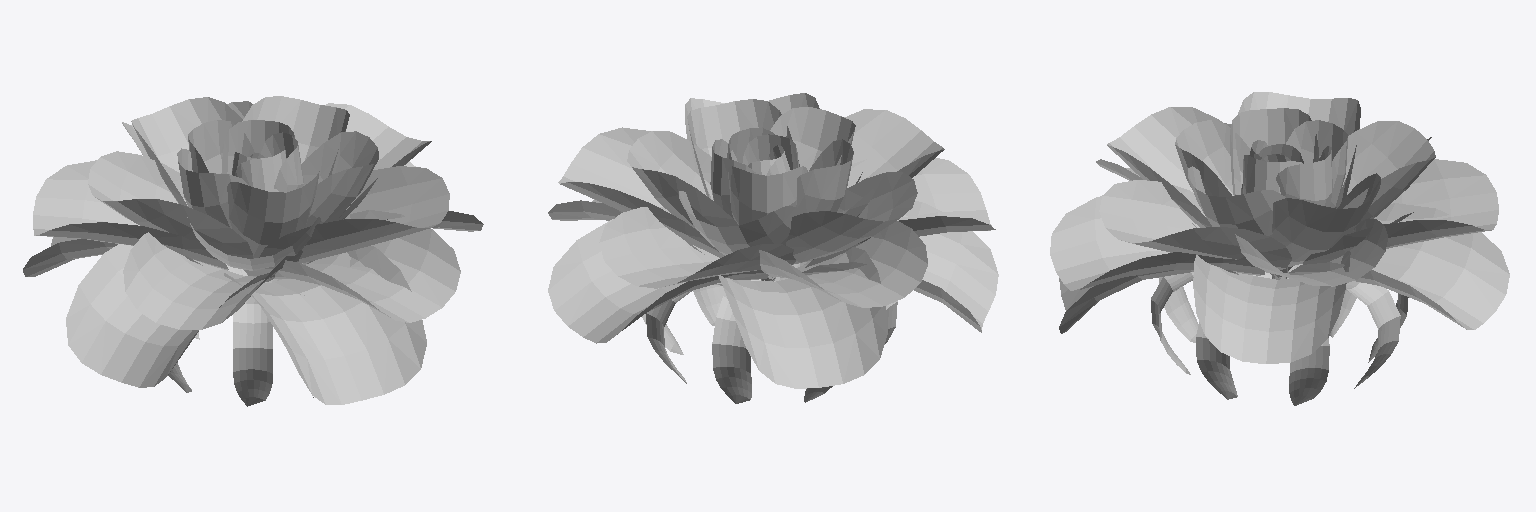
The model's file is FlowerTopModel_03_seq_0045.obj.
3 renders of one model, left to right at view 1: azimuth 30°, elevation 25°; view 2: azimuth 150°, elevation 25°; view 3: azimuth 270°, elevation 25°, orthographic.
Parts seen in each view (by area): view 1: FlowerTopModel_03; view 2: FlowerTopModel_03; view 3: FlowerTopModel_03.
Part boxes in pixels (bbox=[...]): FlowerTopModel_03: bbox=[23, 96, 483, 406]; FlowerTopModel_03: bbox=[548, 93, 998, 403]; FlowerTopModel_03: bbox=[1050, 92, 1509, 405].
Bounding box in the file's own units: 934 × 504 × 930.